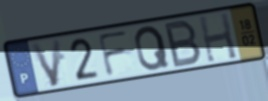2: (68, 37, 102, 83)
B: (163, 18, 204, 70)
F: (95, 28, 131, 79)
H: (196, 11, 239, 65)
Q: (133, 24, 172, 73)
V: (28, 37, 63, 90)
